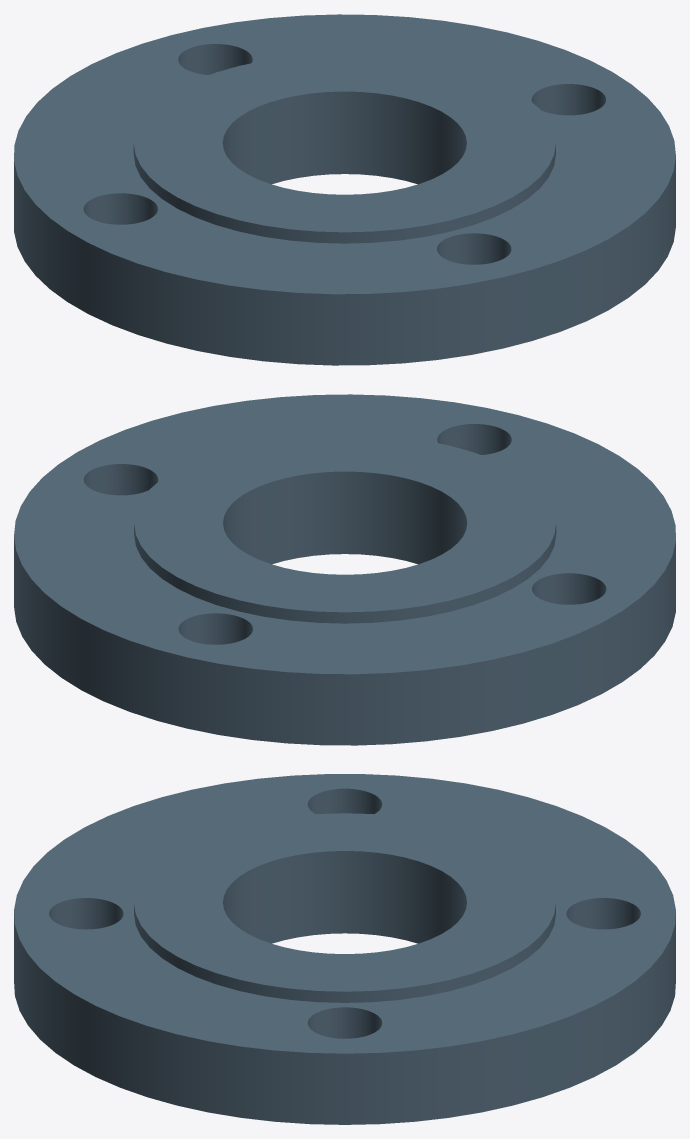
File: flanec-ploskij-DN50-PN16.glb
The picture shows the model from 3 angles, top to bottom: view 1: azimuth 30°, elevation 25°; view 2: azimuth 150°, elevation 25°; view 3: azimuth 270°, elevation 25°; orthographic projection.
Visible parts, largest first — view 1: Open CASCADE STEP translator 7.9 17; view 2: Open CASCADE STEP translator 7.9 17; view 3: Open CASCADE STEP translator 7.9 17.
Part boxes in pixels (box(x1,y1,x2,y2)): Open CASCADE STEP translator 7.9 17: box(14, 14, 675, 365); Open CASCADE STEP translator 7.9 17: box(14, 394, 675, 745); Open CASCADE STEP translator 7.9 17: box(14, 774, 675, 1124).
Bounding box in the file's own units: 160 × 22 × 160.
